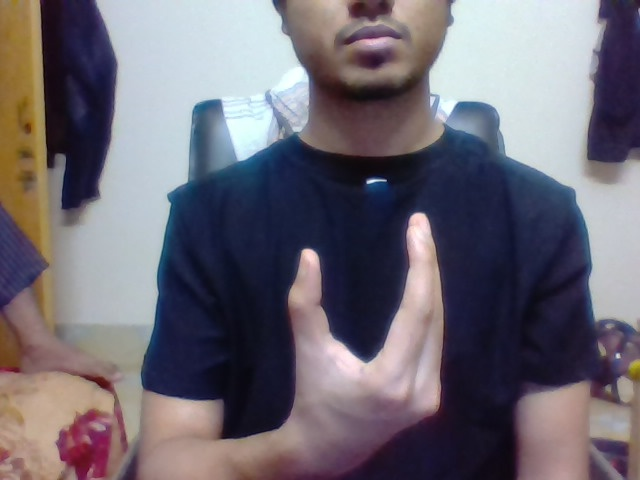U: (277, 199, 458, 374)
